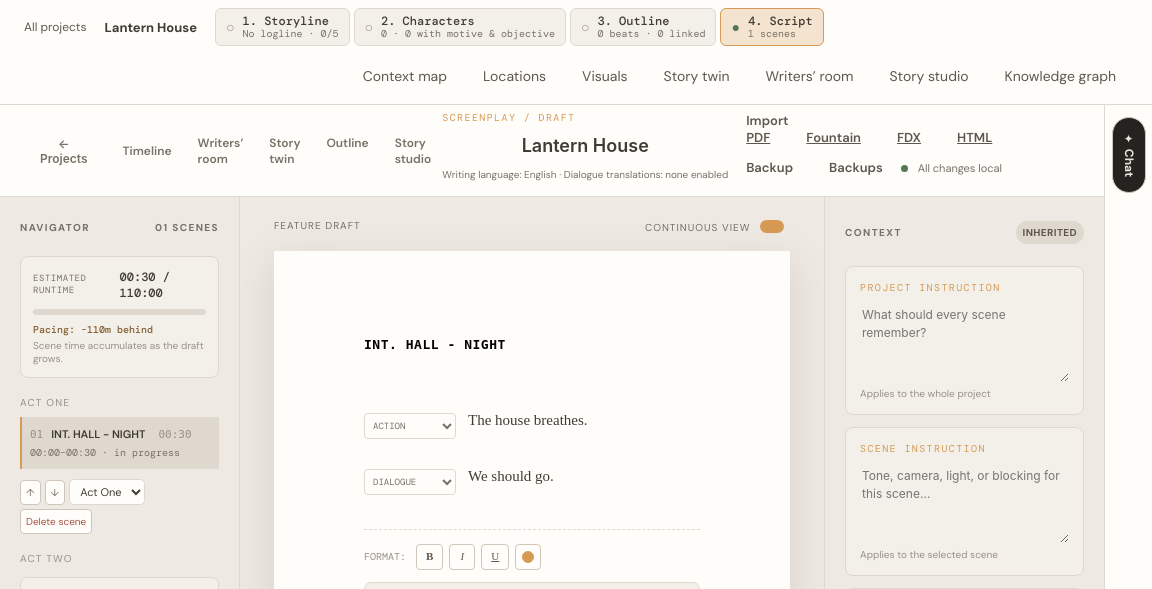
Test: Script workspace › keeps focus where the writer moved it right after a formatting click
This screenshot has width=1152, height=589.
Click the text box named "Edit action".
click(547, 420)  # box [466,405,628,436]
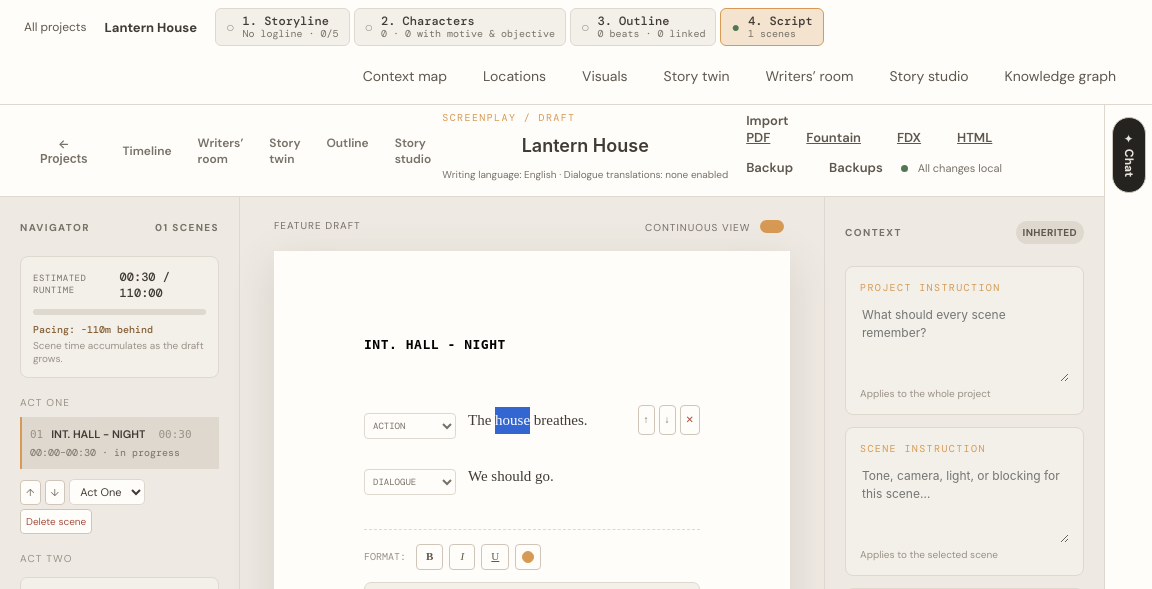
Click the button named "Bold text".
click(430, 557)  # box [416,544,443,570]
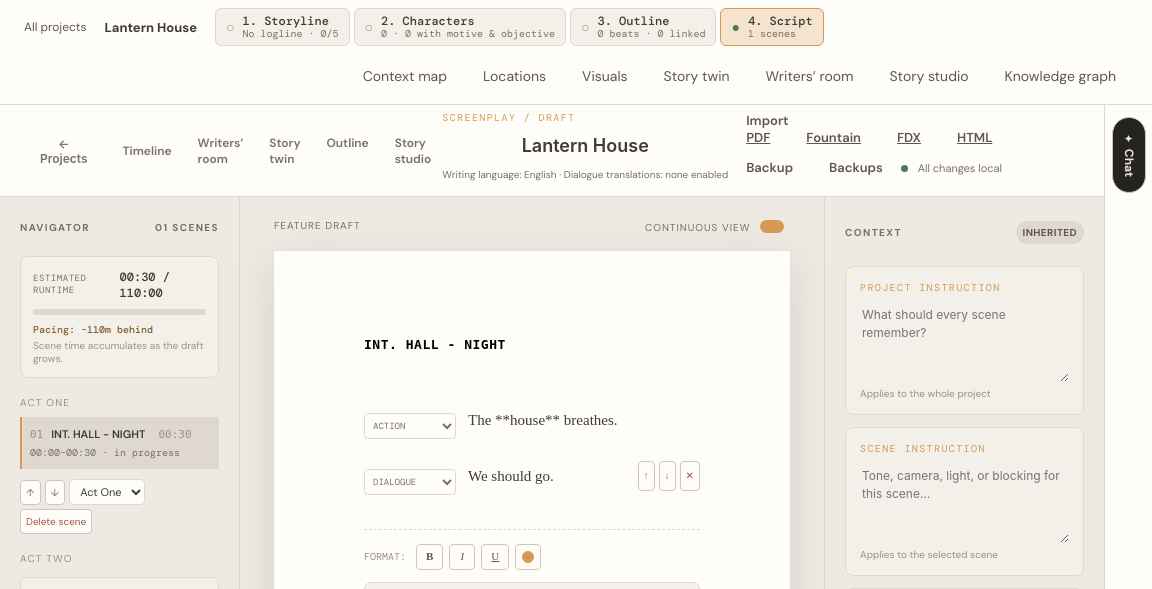
Expected: the text box named "Edit action" holds "The **house** breathes.", [466,405,628,436]
